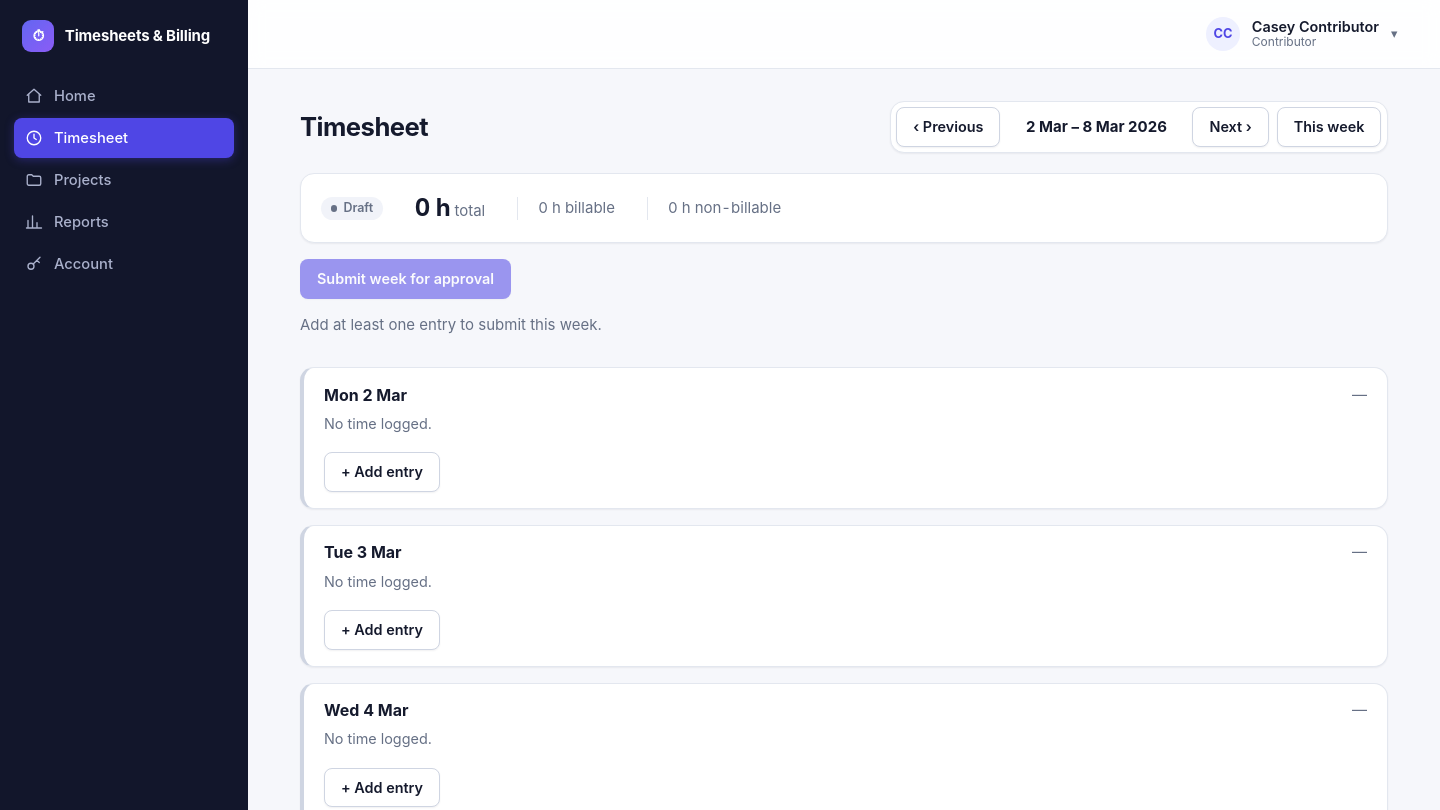
timesheet: viewing a week › navigates between weeks and back to this week
Expected: the heading "Timesheet" is shown, [300,108,428,146]
Expected: the text "total" is shown, [450,201,485,220]
Click the button with aria-label "Next week": {"x": 1231, "y": 127} [1192,107,1269,147]
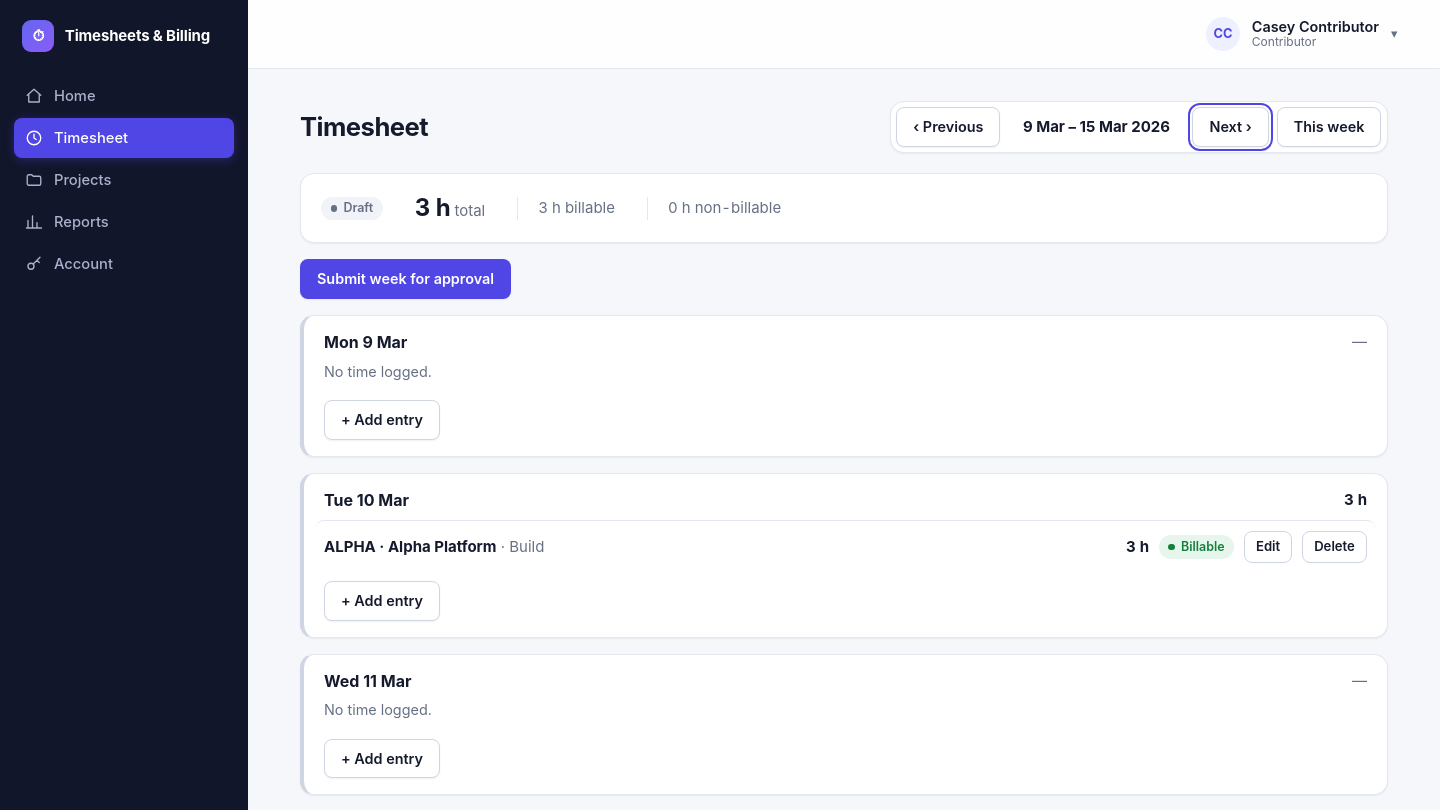
Expected: the text "3 h" is shown 2 times, [1344,489,1367,511]; [1126,537,1149,556]
Now the text "9 Mar – 15 Mar 2026" is shown, box [1023,117,1170,136]
Now the element "Tue 10 Mar" is shown, box [300,473,1388,638]
Click the button with aria-label "Previous week": {"x": 948, "y": 127} [896,107,1000,147]
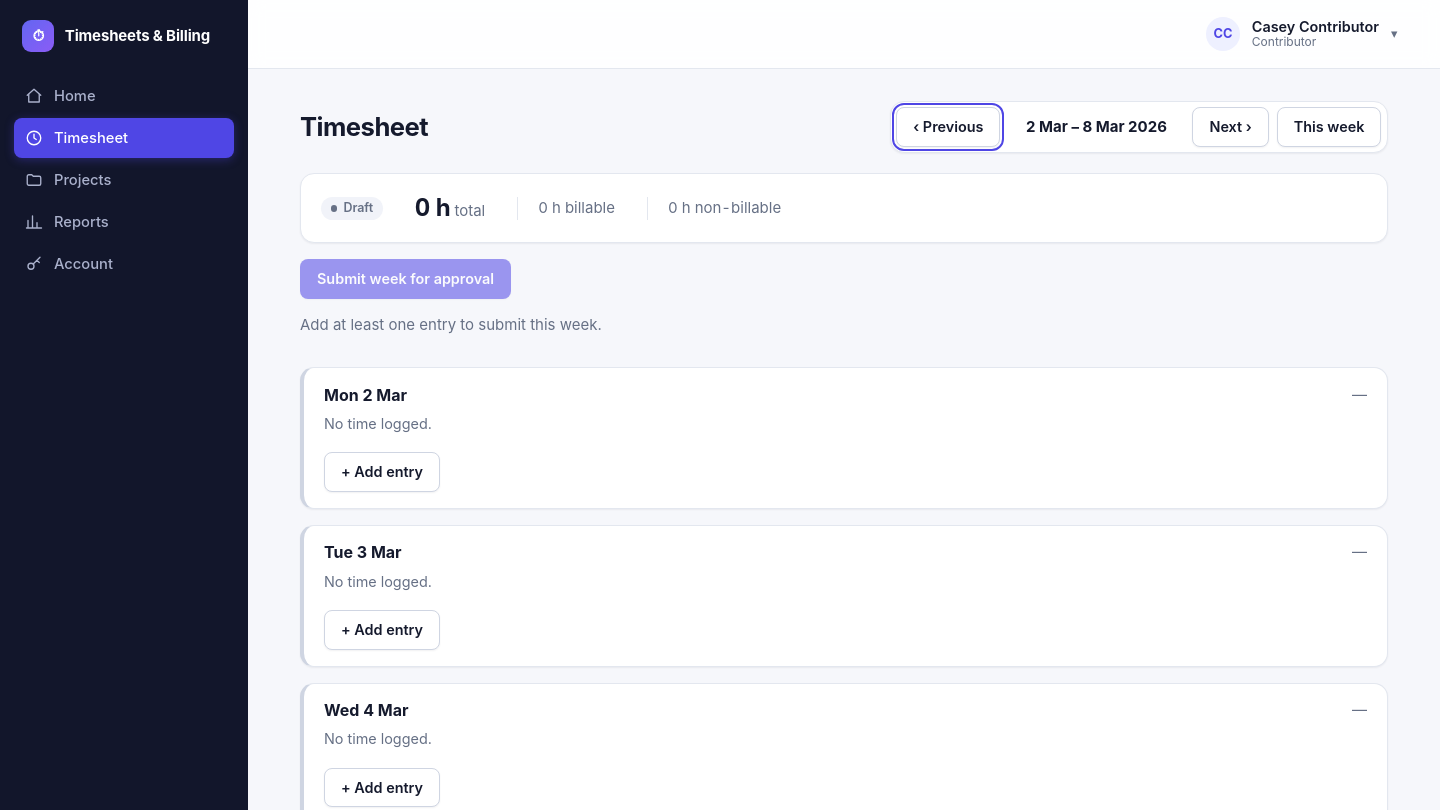
Expected: the button "This week" is enabled, [1277,107,1381,147]
Now the text "2 Mar – 8 Mar 2026" is shown, box [1026,117,1167,136]
